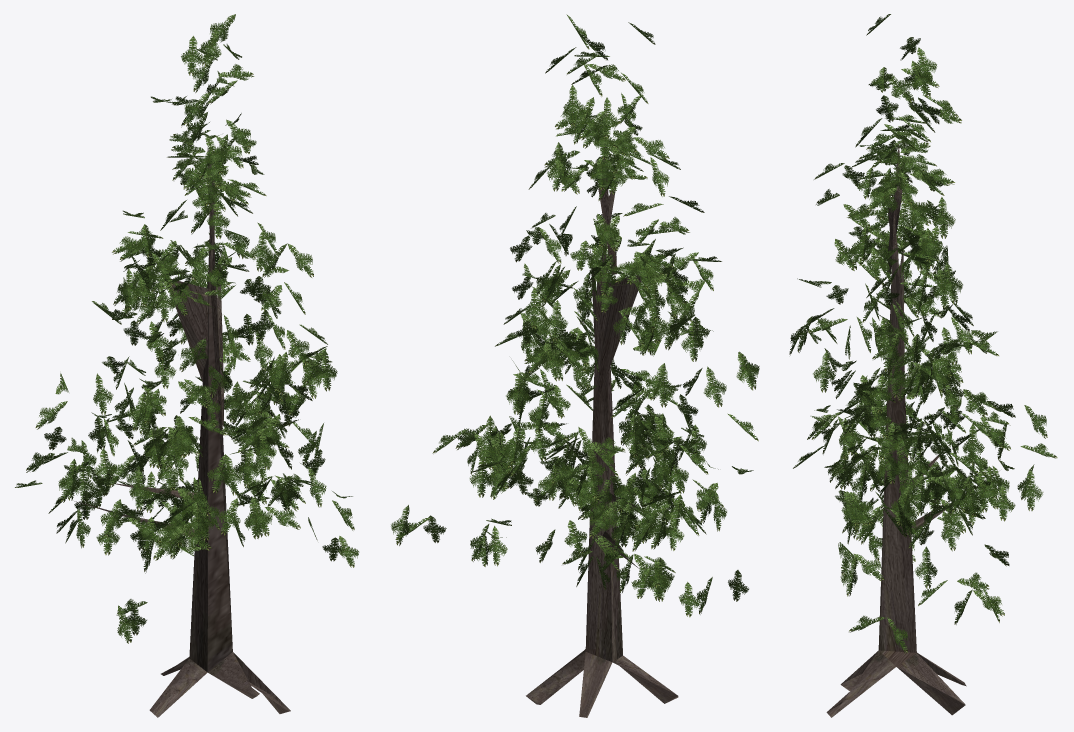
Rendered from needle01.obj.
3 views of the same model, side by side, from view 1: azimuth 30°, elevation 25°; view 2: azimuth 150°, elevation 25°; view 3: azimuth 270°, elevation 25° (orthographic).
Parts seen in each view (by area): view 1: (null); view 2: (null); view 3: (null).
Boxes of the visible parts, <box> form: (null): <box>15,14,359,717</box>; (null): <box>391,14,759,717</box>; (null): <box>789,14,1057,717</box>.
Bounding box in the file's own units: 2.14 × 4.51 × 1.64.
4 materials, 4 textured.
